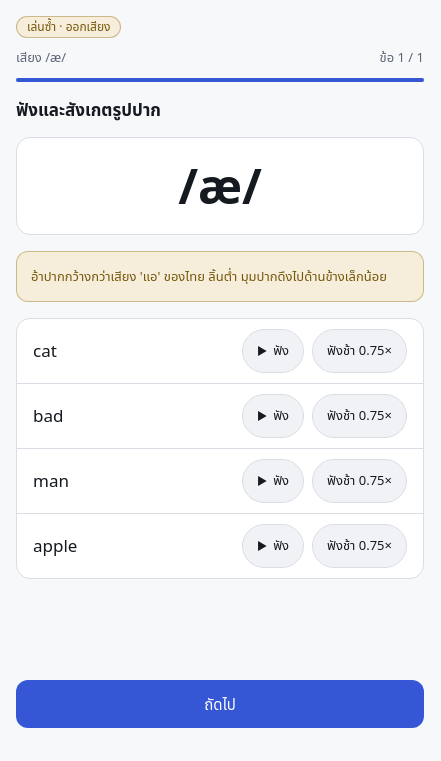
Test: LessonPlayer self-rated line in a skill replay › does not say so when the section had only an ungraded intro
Click the button "ถัดไป".
click(220, 704)  # box [16, 680, 424, 728]
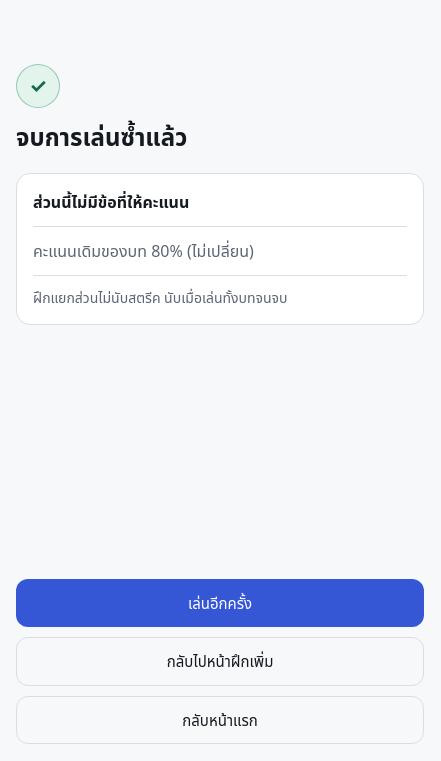
Expected: the heading "จบการเล่นซ้ำแล้ว" is shown, [16, 120, 187, 153]
Expected: the text "ส่วนนี้ไม่มีข้อที่ให้คะแนน" is shown, [33, 178, 407, 227]
